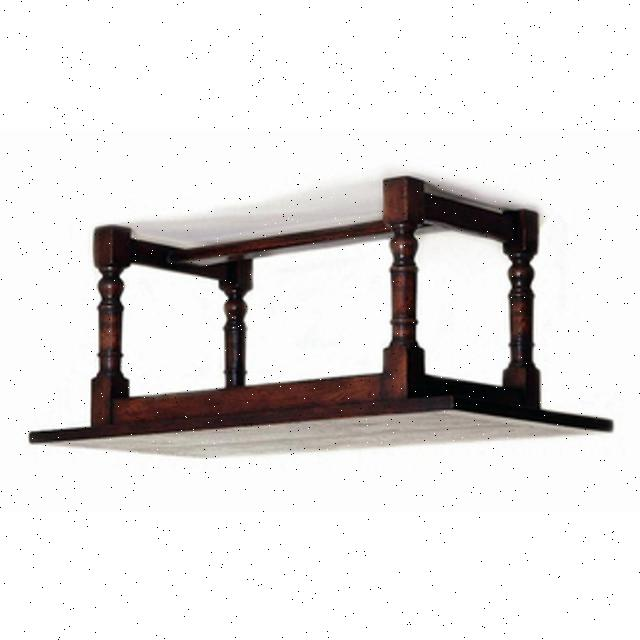mobile-phone: (22, 170, 620, 461)
